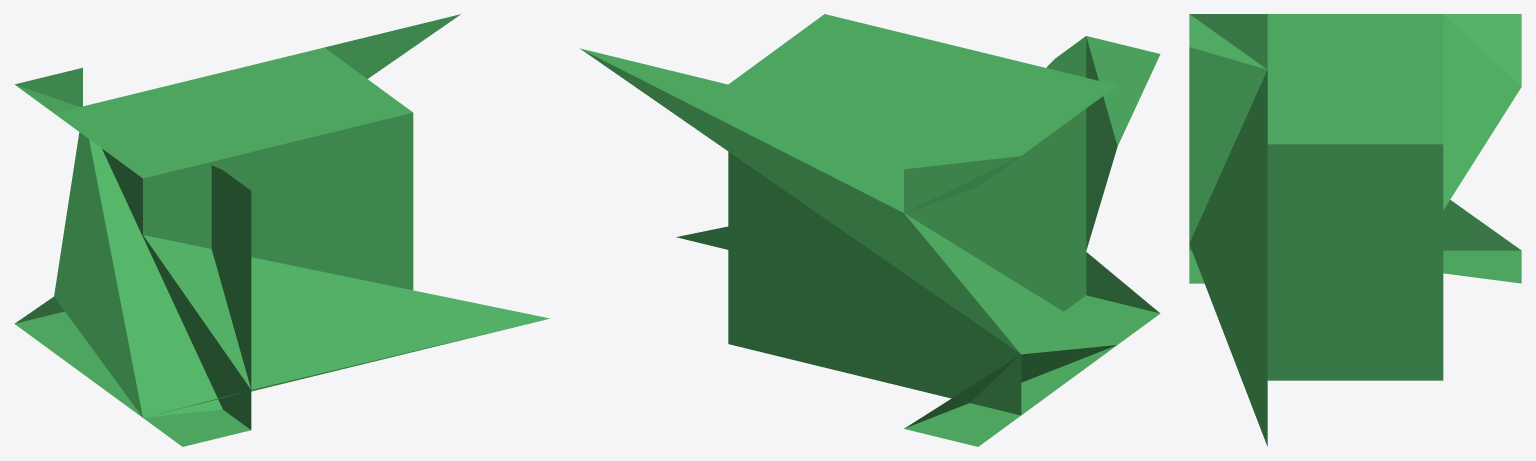
The model's file is big_parks.glb.
3 renders of one model, left to right at view 1: azimuth 30°, elevation 25°; view 2: azimuth 150°, elevation 25°; view 3: azimuth 270°, elevation 25°, orthographic. The views are drawn at different scales.
Parts seen in each view (by area): view 1: world; view 2: world; view 3: world.
Part boxes in pixels (x1,y1,x2,y2): world: (14, 14, 549, 446); world: (580, 14, 1160, 446); world: (1189, 14, 1521, 446).
Bounding box in the file's own units: 1.78 × 1 × 1.27.
